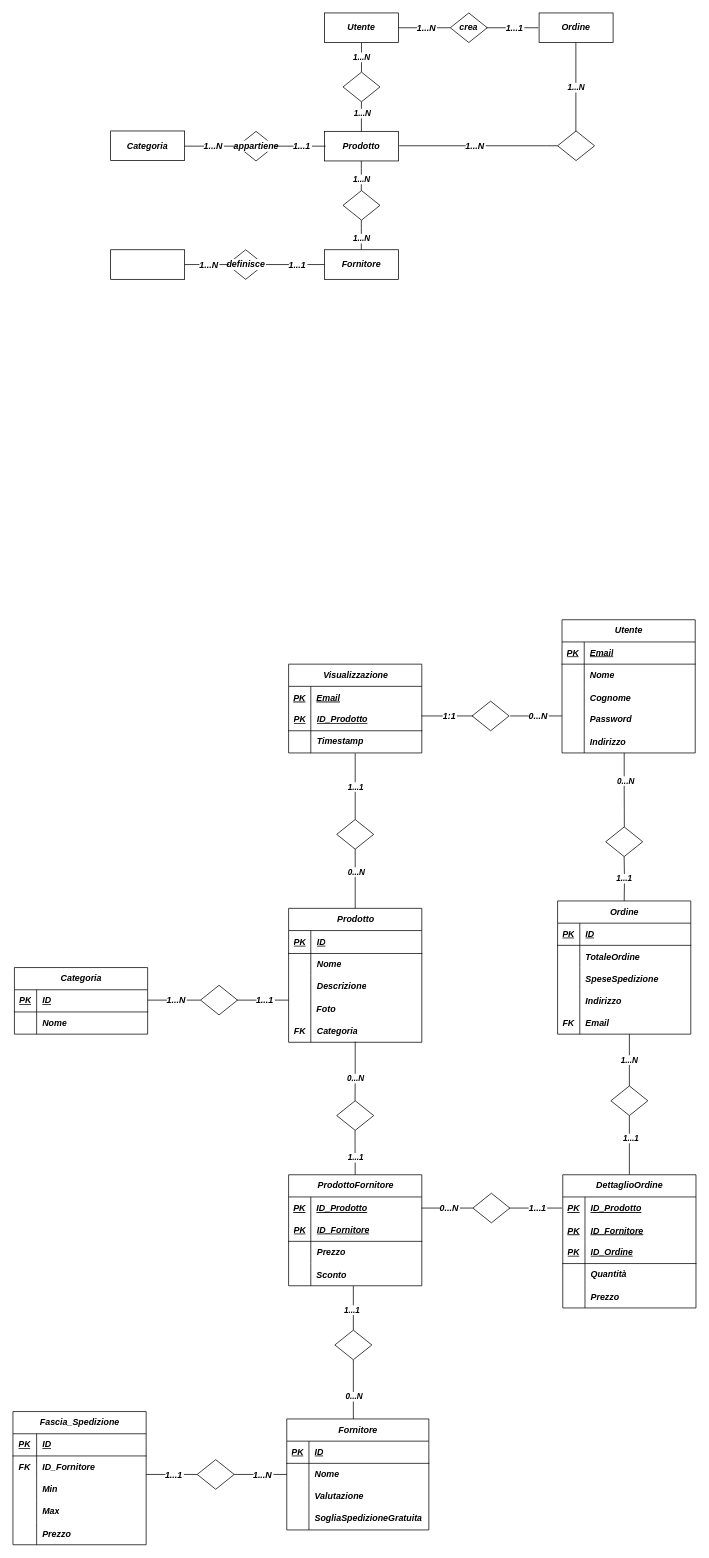
The diagram is 709 pixels wide and 1558 high, and some of its shapes have lost their labels. Here are the shapes that lost their labels. From the top down, the centre of each, then its label:
point 361,86: ha visualizzato
point 576,145: contiene
point 361,205: vende
point 147,264: Fascia di spesa
